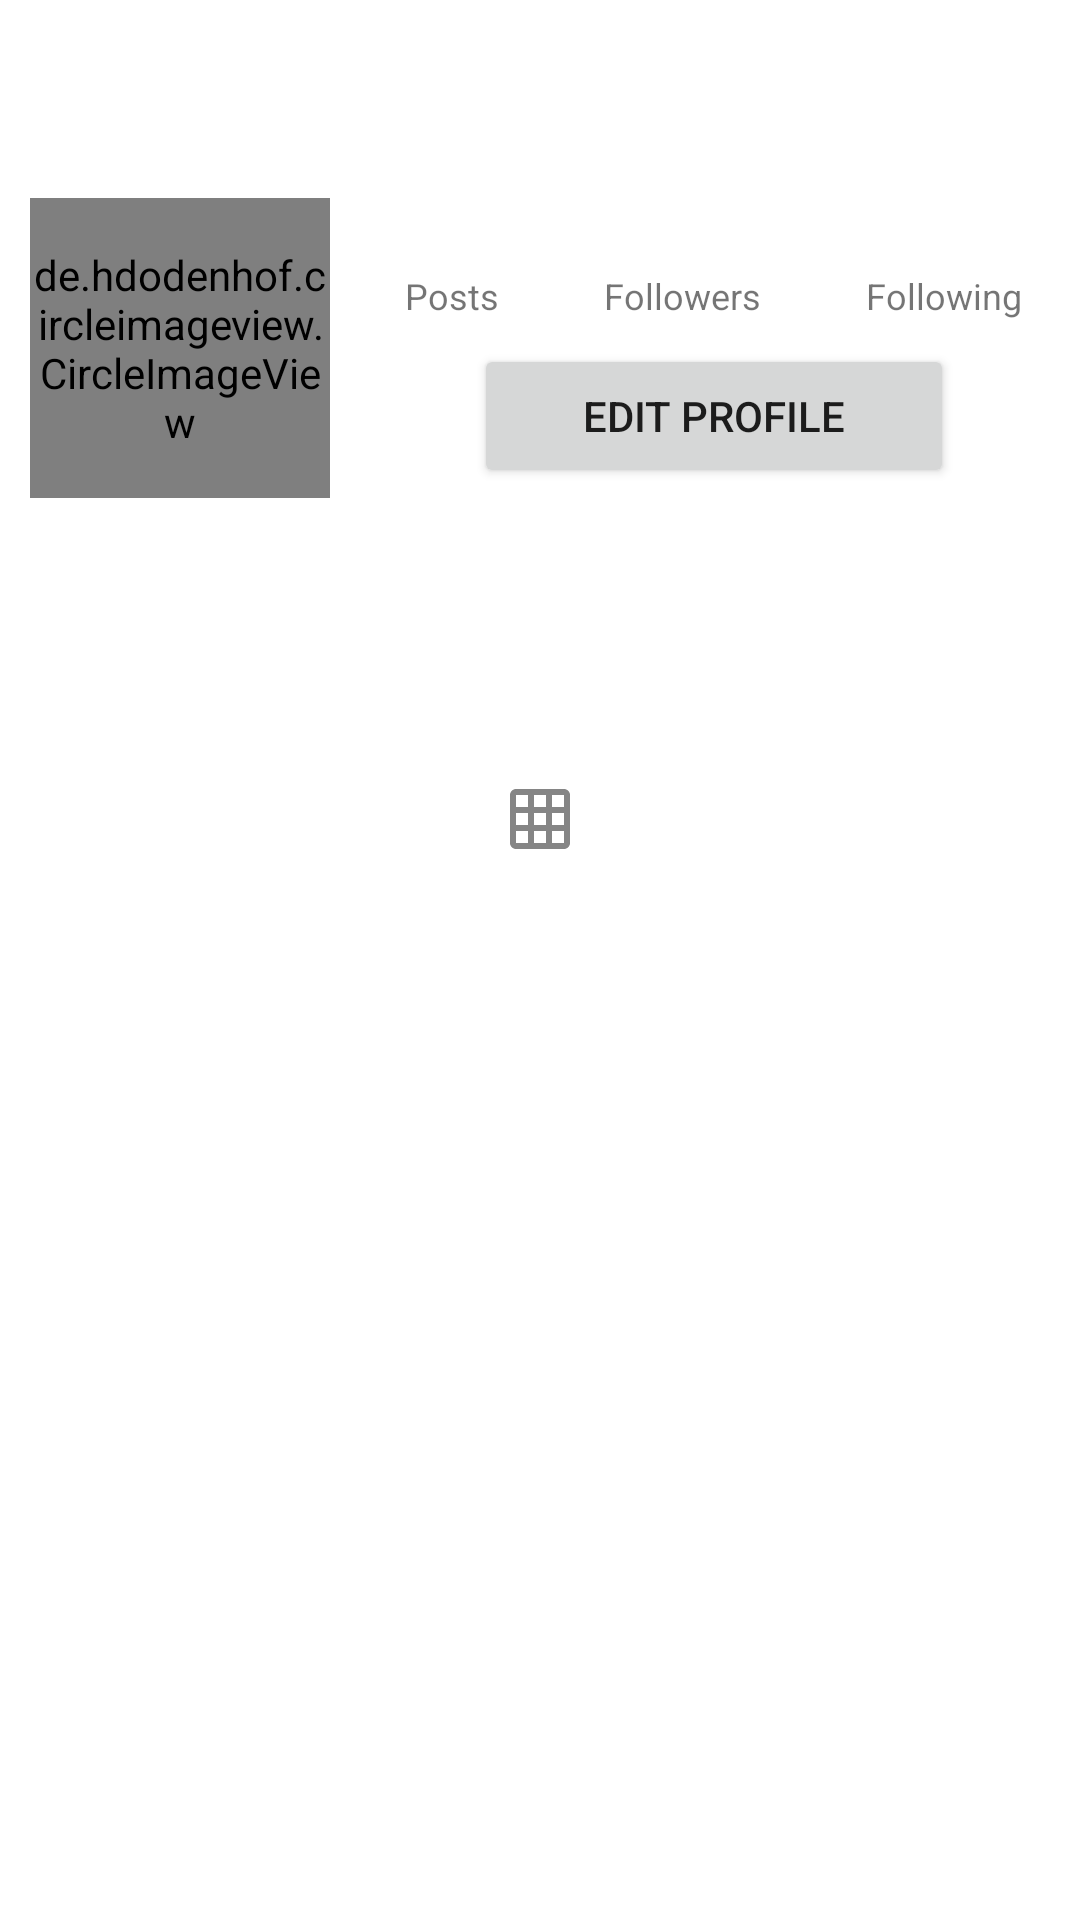

Icon click points for this 1080x1920 phone screenshot, format (x,y):
grid: (540,819)
